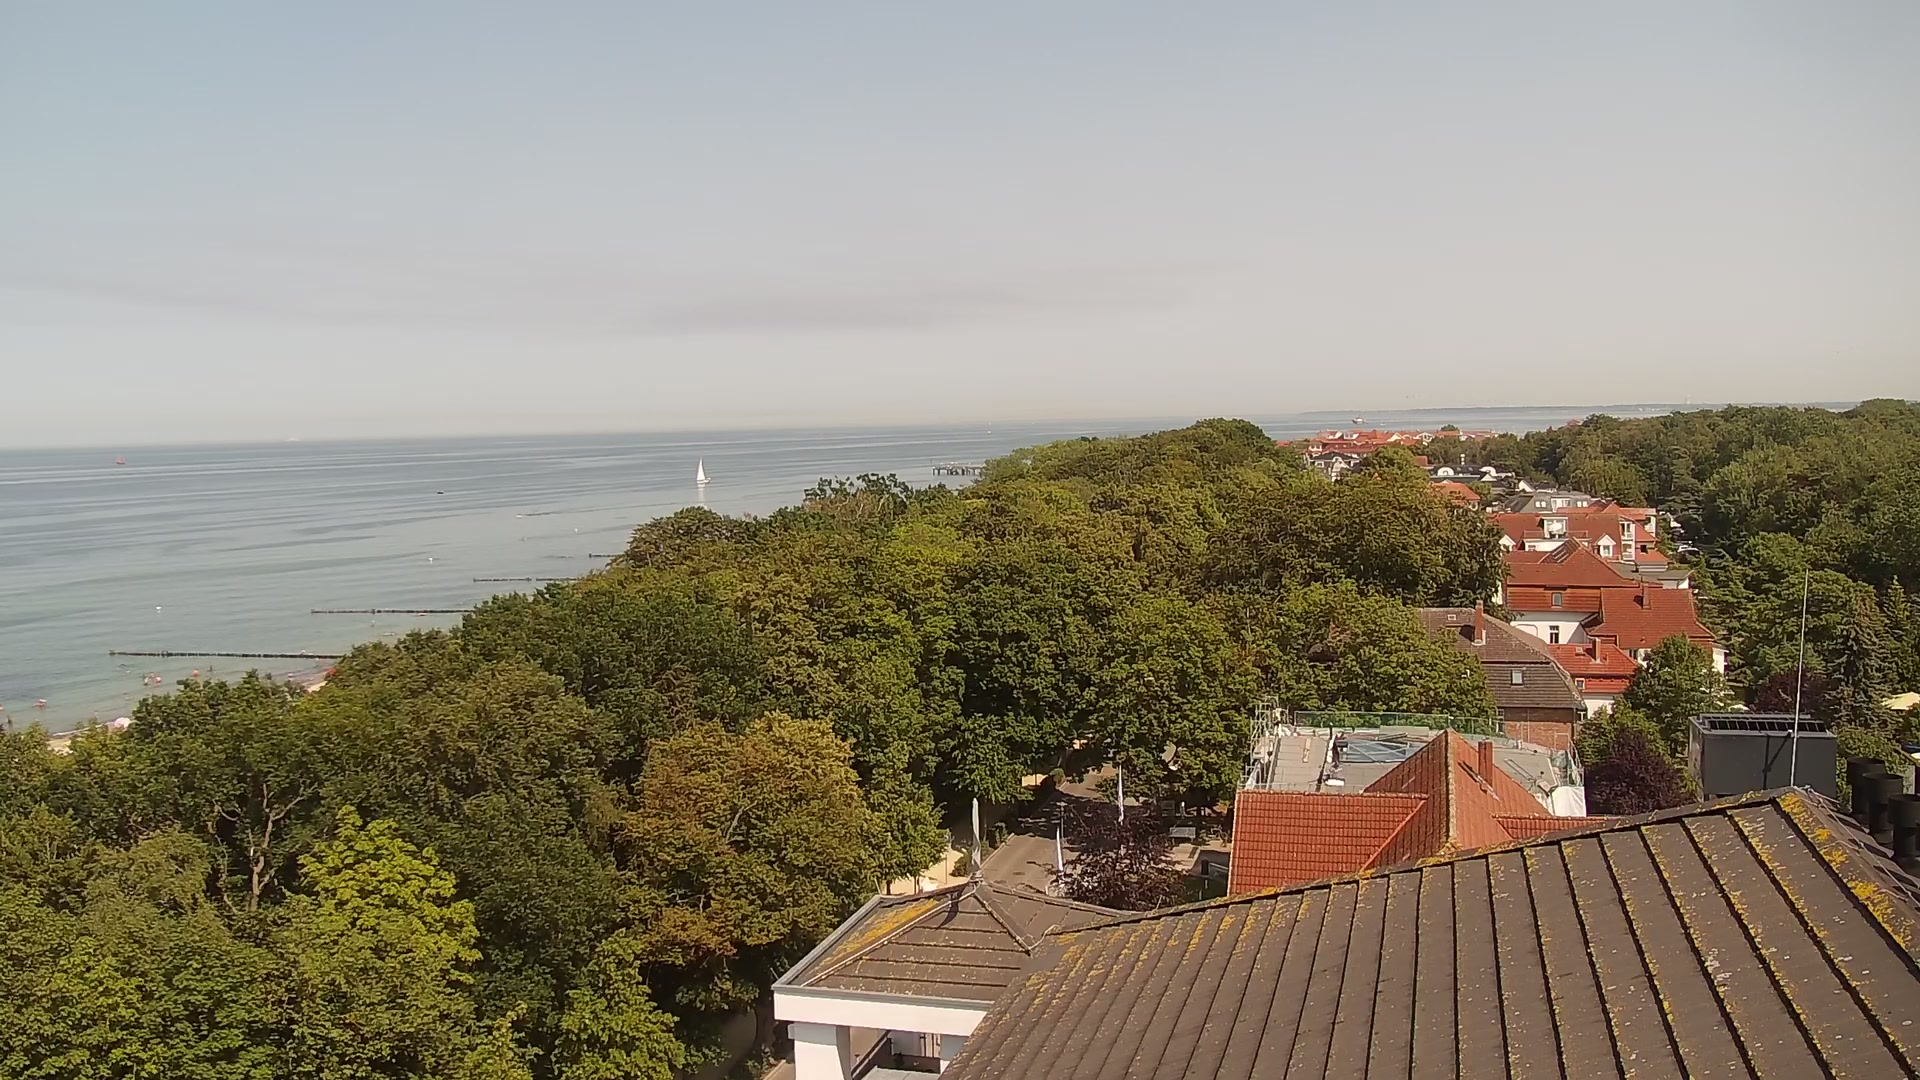human: (31, 699, 48, 708), (154, 675, 162, 685), (190, 668, 199, 676), (143, 676, 149, 686)
sea: (696, 456, 712, 485), (1351, 416, 1369, 425), (113, 454, 126, 465), (310, 607, 320, 613), (436, 490, 444, 495)
